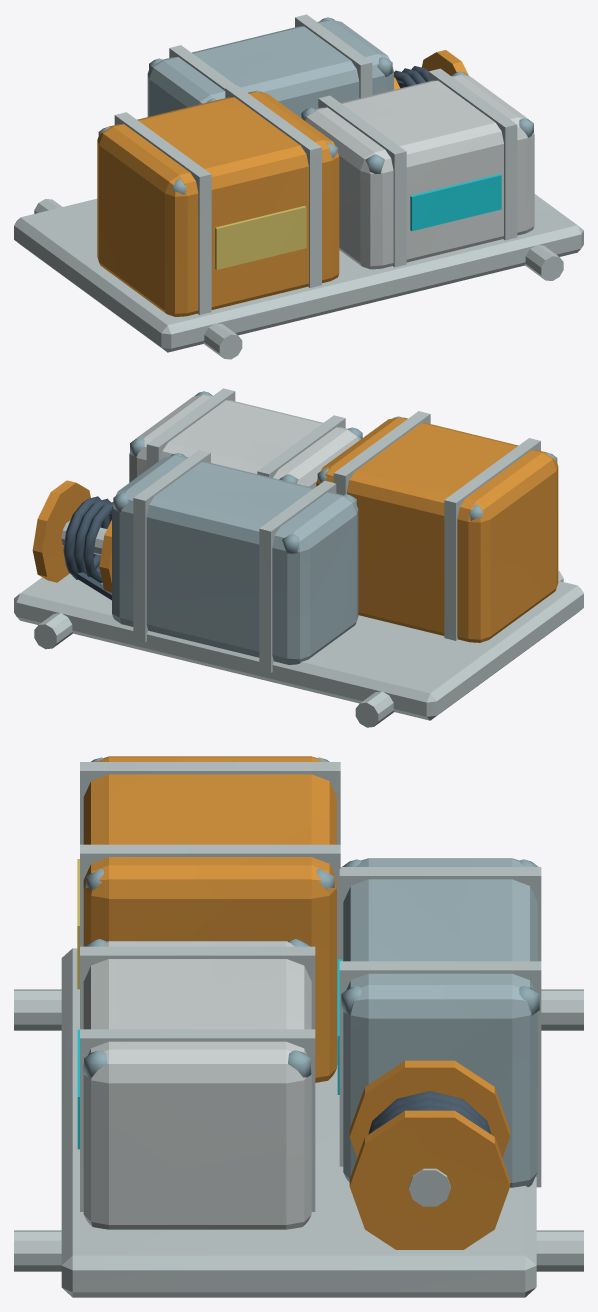
Rendered from runner_day_cargo_stack_v1.glb.
3 renders of one model, top to bottom at view 1: azimuth 30°, elevation 25°; view 2: azimuth 150°, elevation 25°; view 3: azimuth 270°, elevation 25°, orthographic. The views are drawn at different scales.
Parts seen in each view (by area): view 1: runner_day_cargo_stack_v1; view 2: runner_day_cargo_stack_v1; view 3: runner_day_cargo_stack_v1.
Boxes of the visible parts, box(x1,y1,x2,y2) form: runner_day_cargo_stack_v1: box(14, 14, 583, 359); runner_day_cargo_stack_v1: box(14, 388, 583, 727); runner_day_cargo_stack_v1: box(14, 756, 583, 1297).
Bounding box in the file's own units: 3.55 × 1.36 × 2.7.
